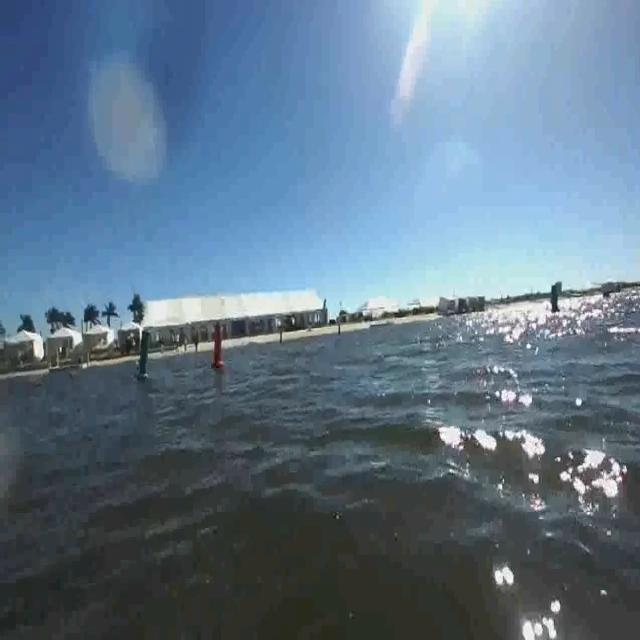green-column-buoy: (137, 328, 154, 381)
red-column-buoy: (210, 325, 225, 371)
